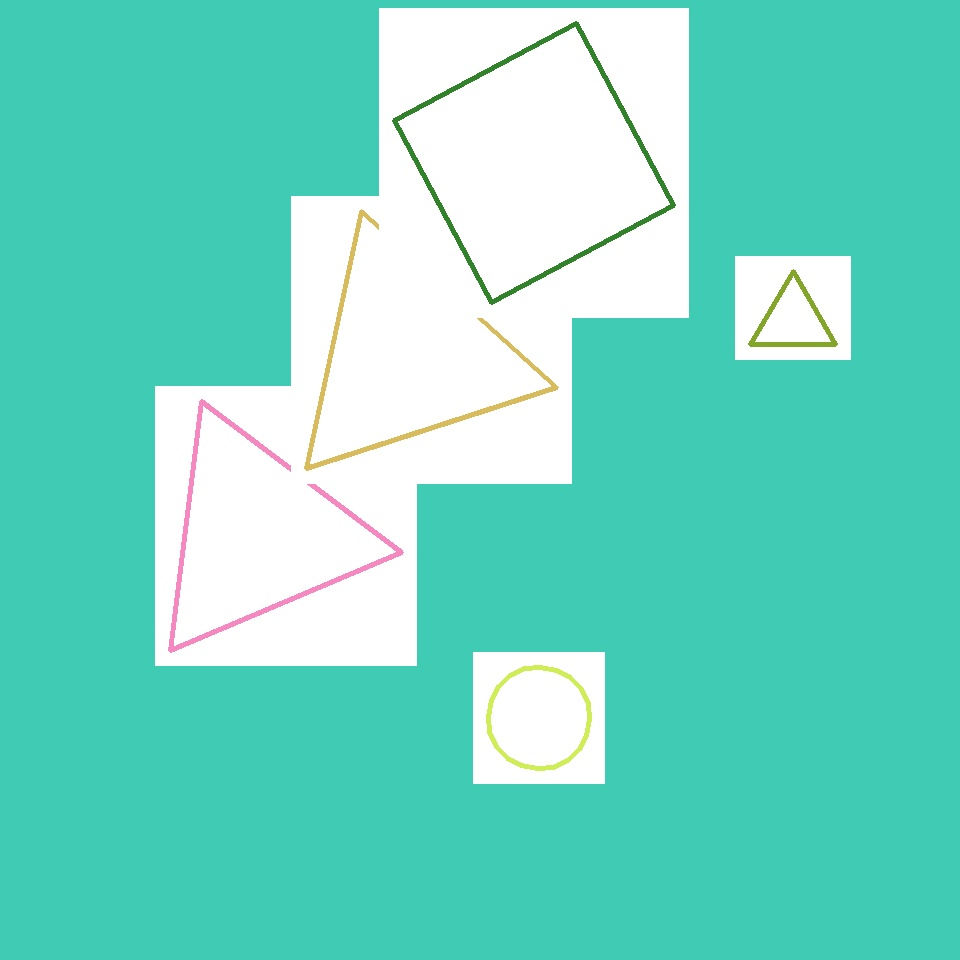circle: (283, 228, 533, 484), (142, 410, 374, 660), (750, 284, 836, 356)
square: (394, 23, 674, 302), (473, 357, 678, 562), (554, 96, 660, 200)
triangle: (618, 229, 858, 470), (488, 668, 590, 768)
